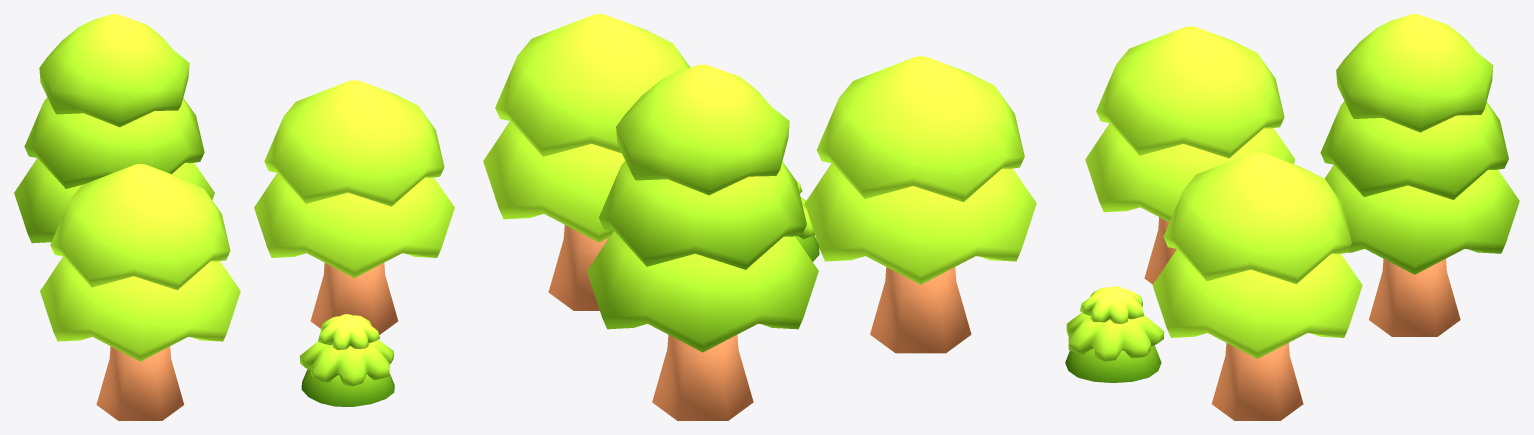
The model's file is trees.gltf.
The picture shows the model from 3 angles, left to right: view 1: azimuth 30°, elevation 25°; view 2: azimuth 150°, elevation 25°; view 3: azimuth 270°, elevation 25°; orthographic projection. The views are drawn at different scales.
Visible parts, largest first — view 1: Object_232, Object_234, Object_230, Object_66; view 2: Object_230, Object_232, Object_234, Object_66; view 3: Object_230, Object_234, Object_232, Object_66.
Boxes of the visible parts, bbox=[...] form: Object_232: bbox=[40, 164, 240, 420]; Object_234: bbox=[254, 80, 454, 334]; Object_230: bbox=[14, 14, 214, 243]; Object_66: bbox=[299, 314, 394, 406]; Object_230: bbox=[587, 64, 818, 420]; Object_232: bbox=[804, 56, 1036, 353]; Object_234: bbox=[483, 14, 689, 310]; Object_66: bbox=[795, 181, 819, 261]; Object_230: bbox=[1320, 14, 1519, 336]; Object_234: bbox=[1152, 152, 1362, 420]; Object_232: bbox=[1085, 26, 1295, 284]; Object_66: bbox=[1065, 286, 1164, 382].
Size of the model in its own units: 2.3 by 1.51 by 2.06.
1 material, 1 textured.
